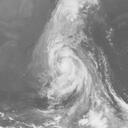cyclone: (38, 42, 97, 104)
